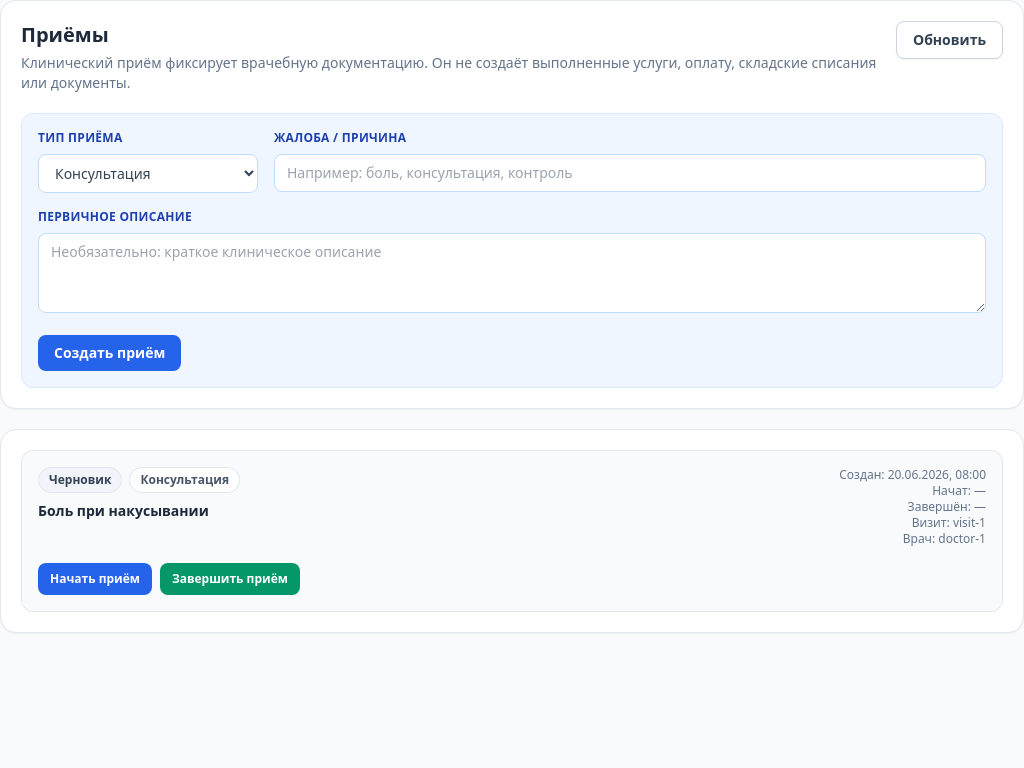
Scenario: ClinicalEncounterPanel › complete form requires summary before confirmation
This screenshot has width=1024, height=768.
Click the button with test id "encounter-complete-encounter-1".
click(230, 579)  # box [160,563,300,595]
(page scrolled)
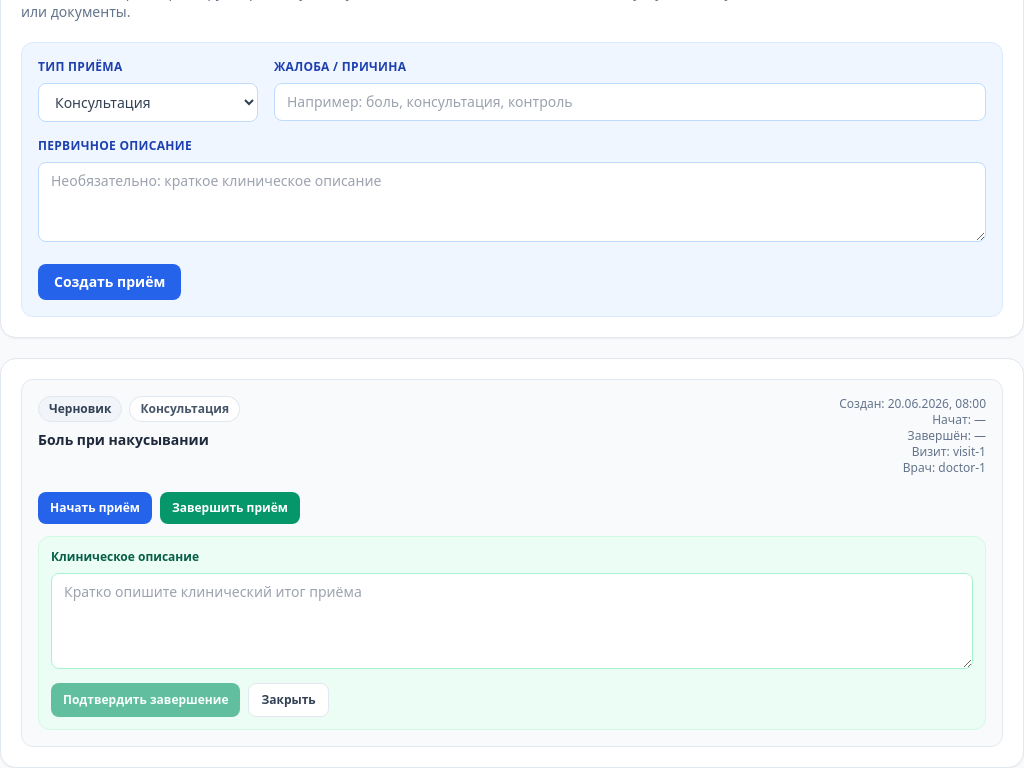
expect the button with test id "encounter-complete-confirm-encounter-1" is disabled: met, box [51,683,240,717]
